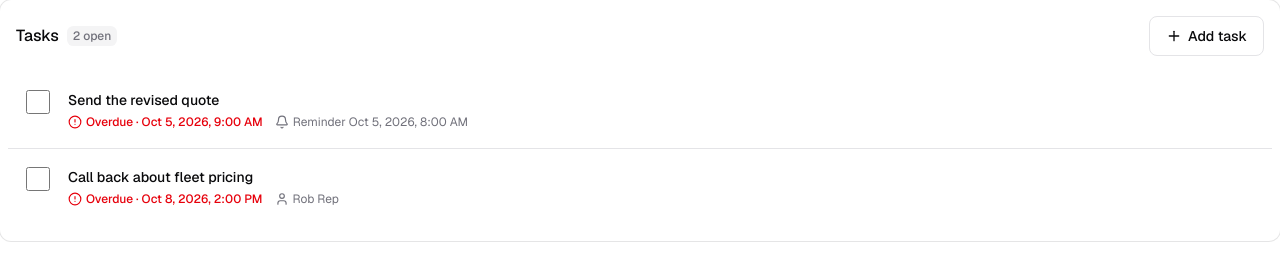
Test: RecordTasks › completes a task from the card and loads the card again
This screenshot has width=1280, height=259.
Click the checkbox named "Complete Send the revised quote". click: (38, 102)
box: x1=26 y1=90 x2=50 y2=114
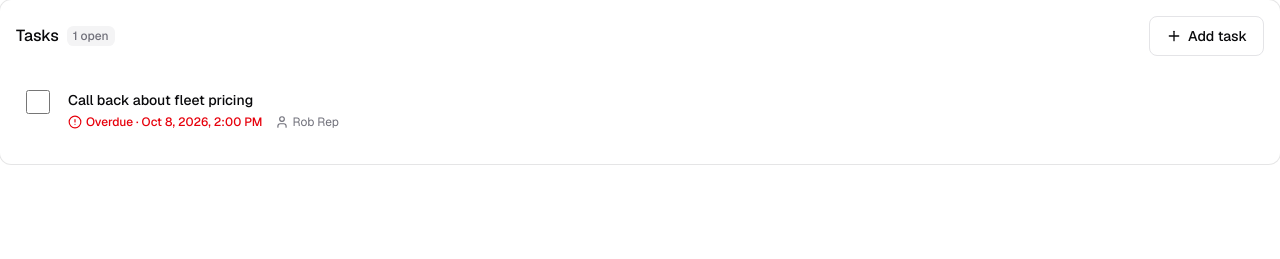
Expected: the button "Send the revised quote" is gone
Expected: the text "1 open" is shown, x1=67 y1=26 x2=115 y2=46
